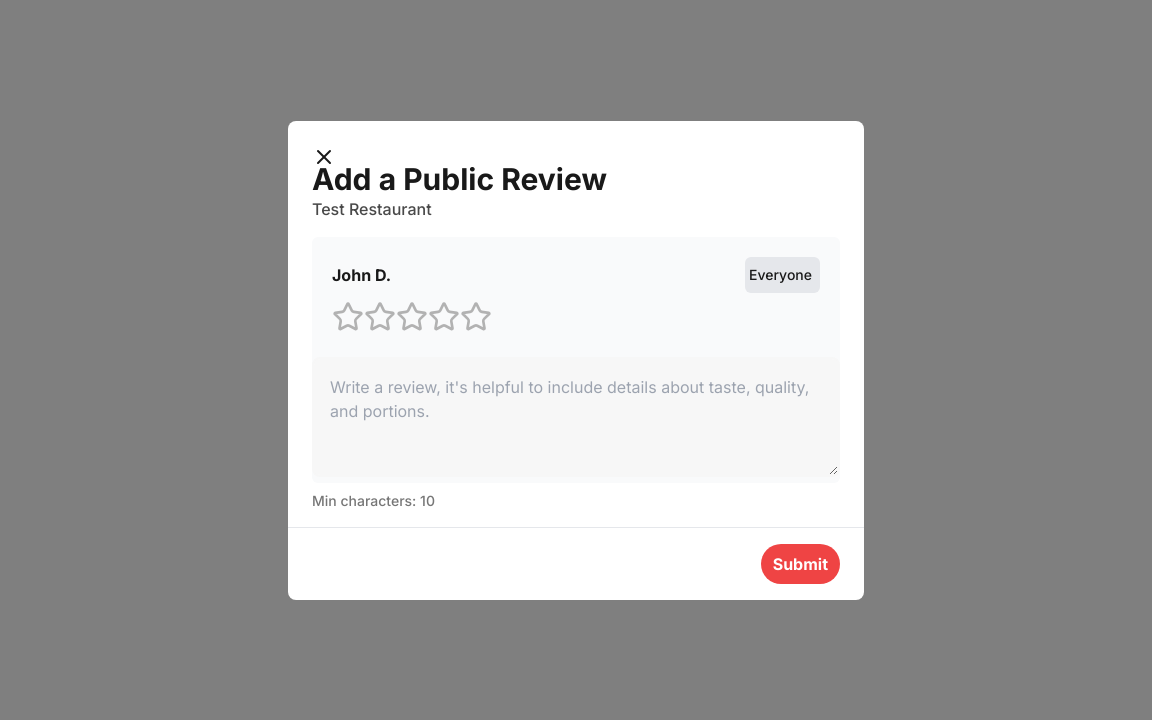
Test: ReviewDialog › Rating Selection › should show error when submitting without rating
Click the button "Submit".
click(800, 564)  # box [761,544,840,584]
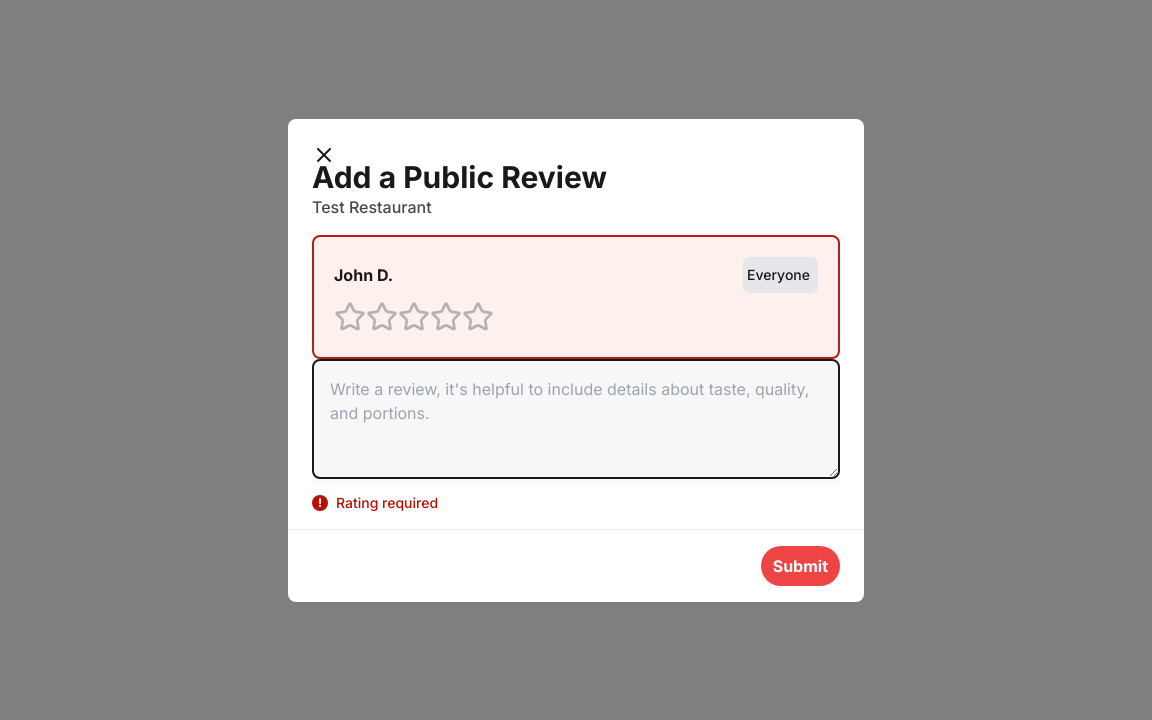
Check: the text "Rating required" is shown, box [336,492,438,512]
